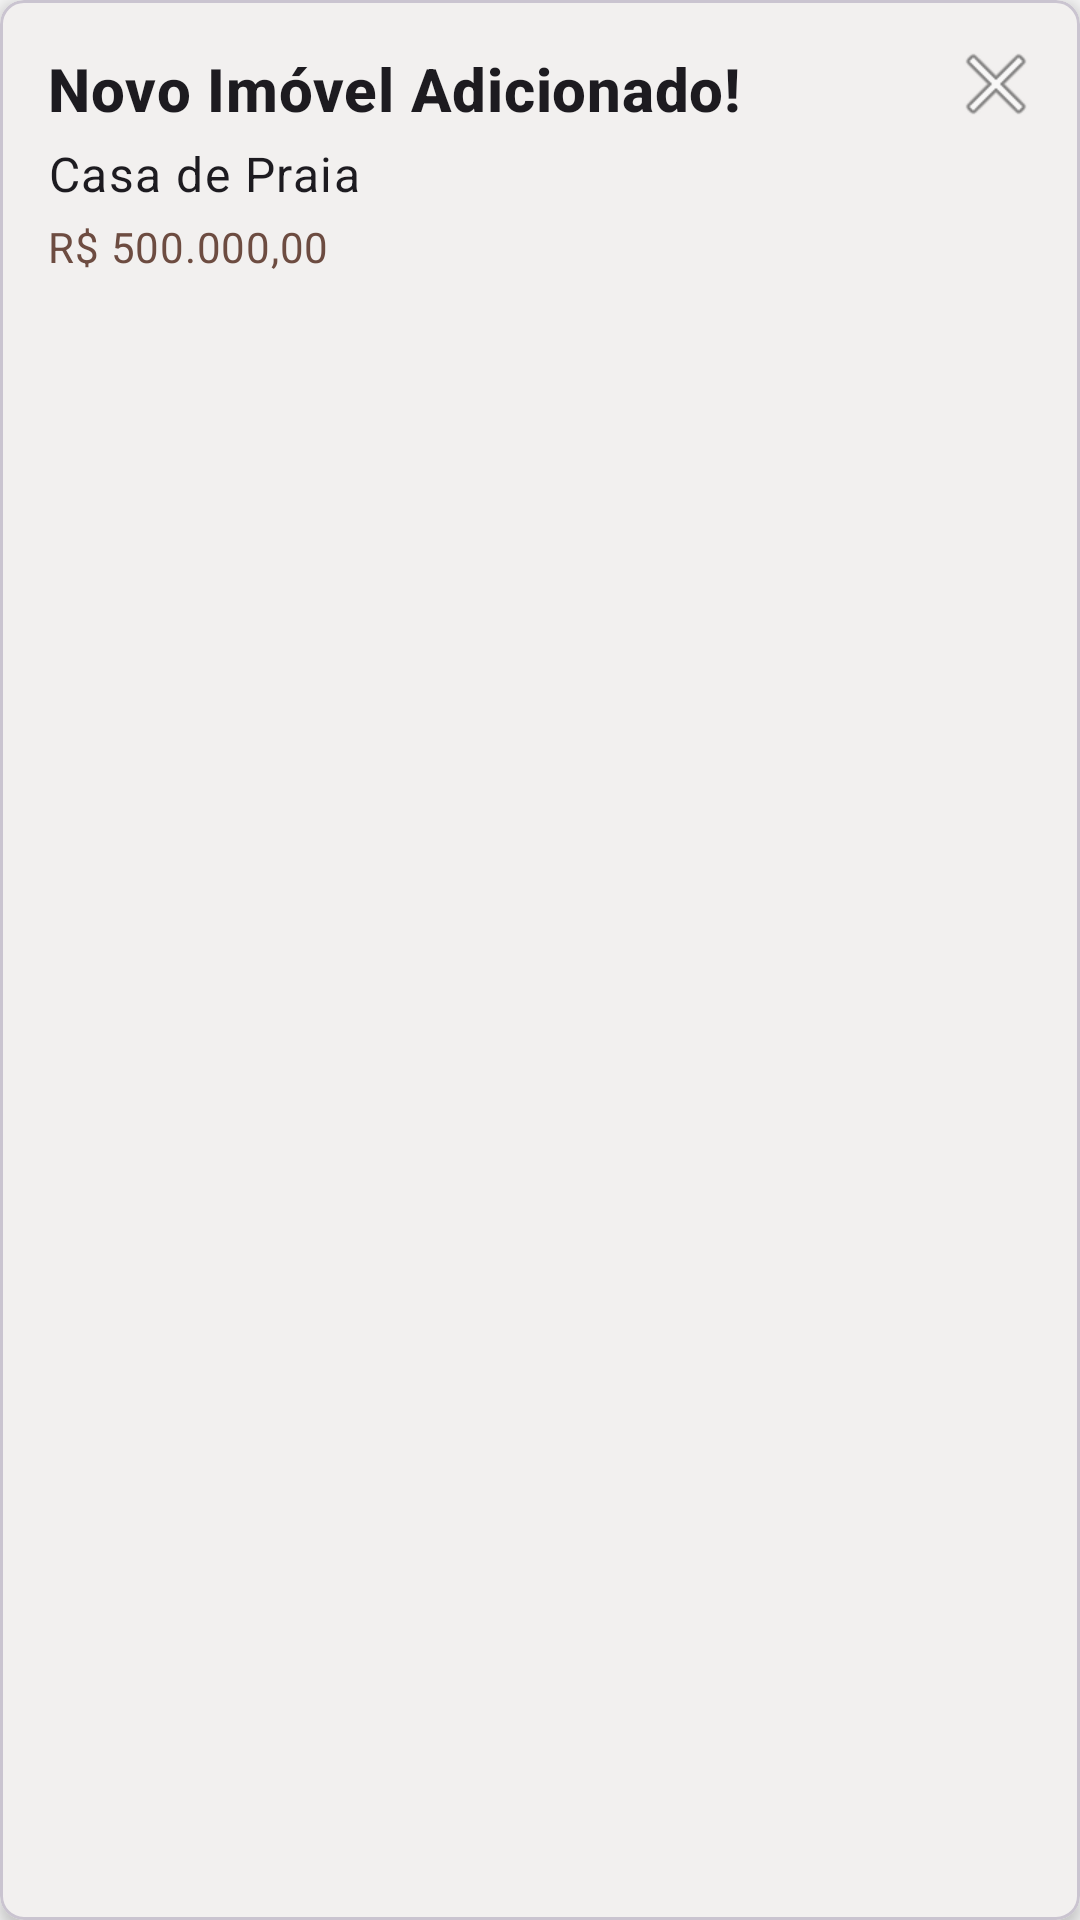

Locate icon controls on the screen. Image size 1080 x 1920, boxes as [left=x1, top=y1, right=x2, bottom=y2].
close clear cancel: [left=966, top=54, right=1026, bottom=114]
